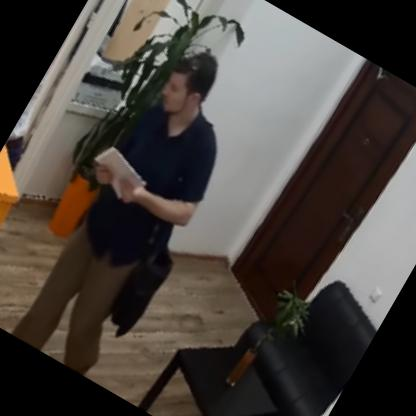Human Body: (0, 18, 283, 390)
